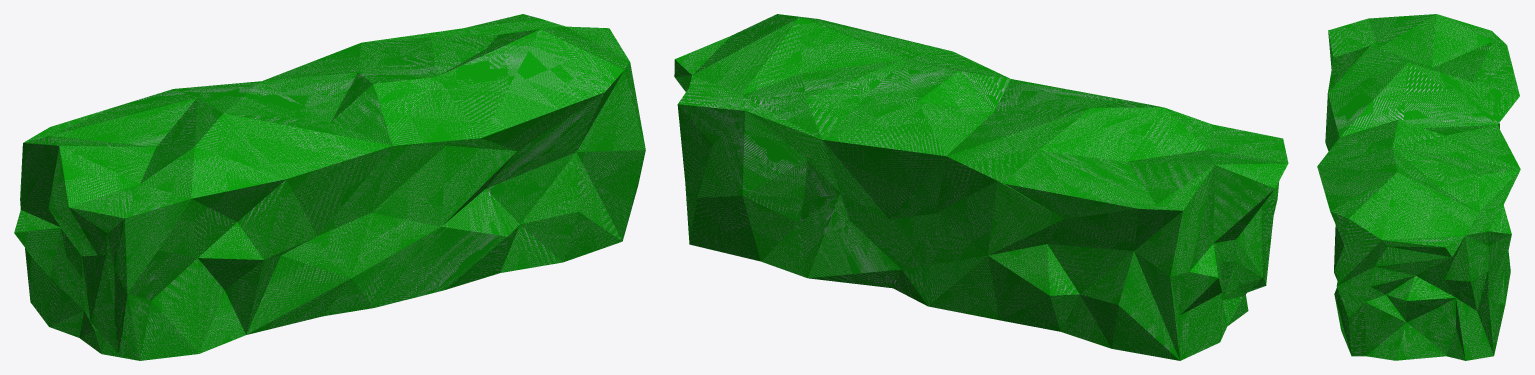
File: Hedge.fbx
3 views of the same model, side by side, from view 1: azimuth 30°, elevation 25°; view 2: azimuth 150°, elevation 25°; view 3: azimuth 270°, elevation 25° (orthographic). The views are drawn at different scales.
Parts seen in each view (by area): view 1: Hedge1; view 2: Hedge1; view 3: Hedge1.
Boxes of the visible parts, left/top/right/bottom form: Hedge1: left=14, top=14, right=645, bottom=360; Hedge1: left=674, top=14, right=1288, bottom=360; Hedge1: left=1317, top=14, right=1520, bottom=360.
Bounding box in the file's own units: 234 × 77.2 × 87.48.
